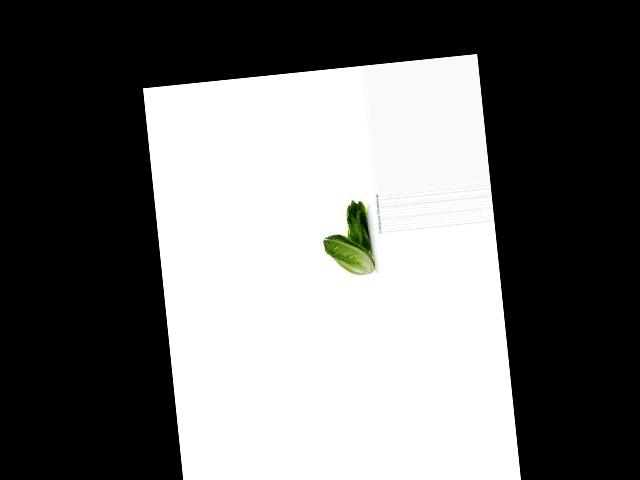lettuce: (339, 199, 377, 253)
